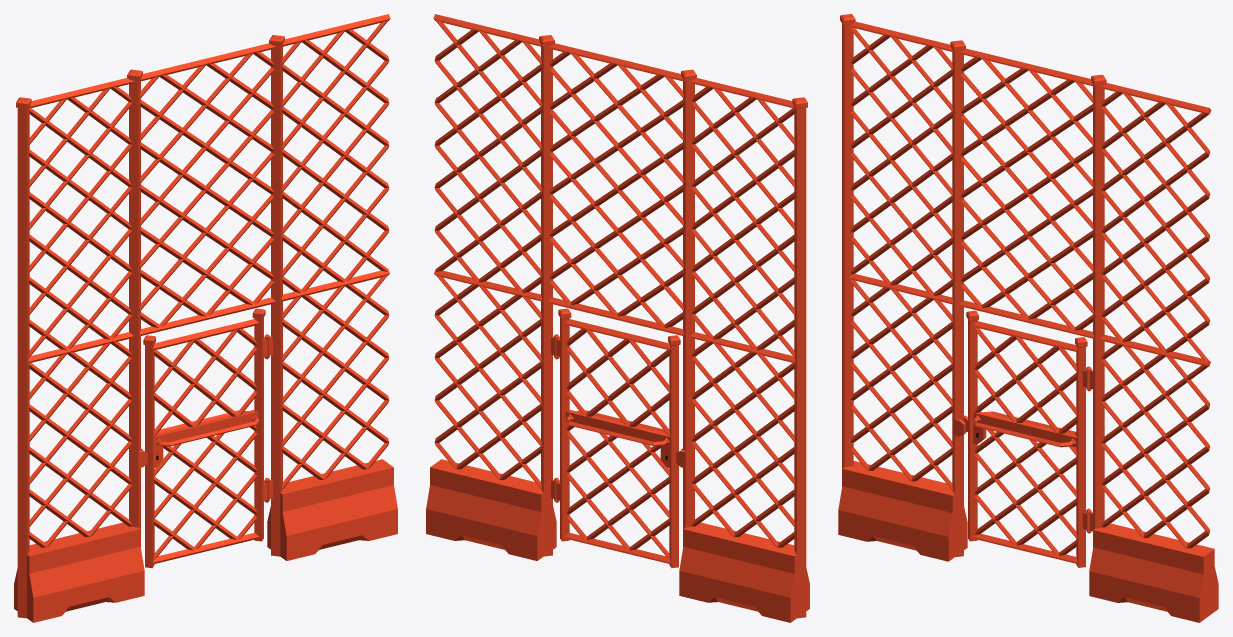
File: SM_Fence_Construction_Door_Tall_City.fbx
The picture shows the model from 3 angles, left to right: view 1: azimuth 30°, elevation 25°; view 2: azimuth 150°, elevation 25°; view 3: azimuth 330°, elevation 25°; orthographic projection.
Parts seen in each view (by area): view 1: SM_Fence_Construction_Door_Tall_City_Base, SM_Fence_Construction_Door_Tall_City_Door; view 2: SM_Fence_Construction_Door_Tall_City_Base, SM_Fence_Construction_Door_Tall_City_Door; view 3: SM_Fence_Construction_Door_Tall_City_Base, SM_Fence_Construction_Door_Tall_City_Door.
Boxes of the visible parts, x1,y1,x2,y2 form: SM_Fence_Construction_Door_Tall_City_Base: (14, 14, 397, 622); SM_Fence_Construction_Door_Tall_City_Door: (143, 308, 269, 568); SM_Fence_Construction_Door_Tall_City_Base: (426, 14, 809, 622); SM_Fence_Construction_Door_Tall_City_Door: (554, 308, 680, 568); SM_Fence_Construction_Door_Tall_City_Base: (838, 14, 1218, 622); SM_Fence_Construction_Door_Tall_City_Door: (966, 310, 1091, 567).
Bounding box in the file's own units: 3.06 × 4.06 × 0.2748.
